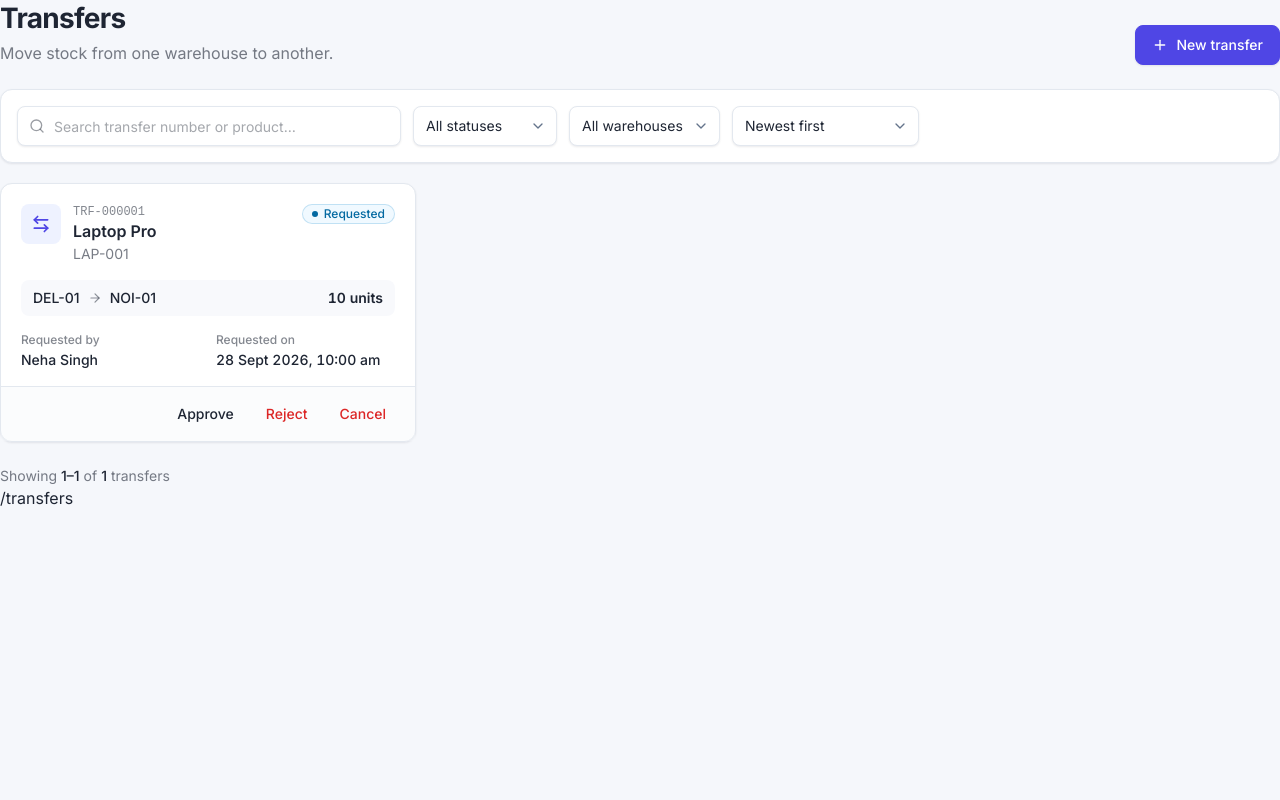
Test: TransfersPage › reject needs a reason
Click the button with aria-label "Reject TRF-000001": [287, 414] box [253,397,320,431]
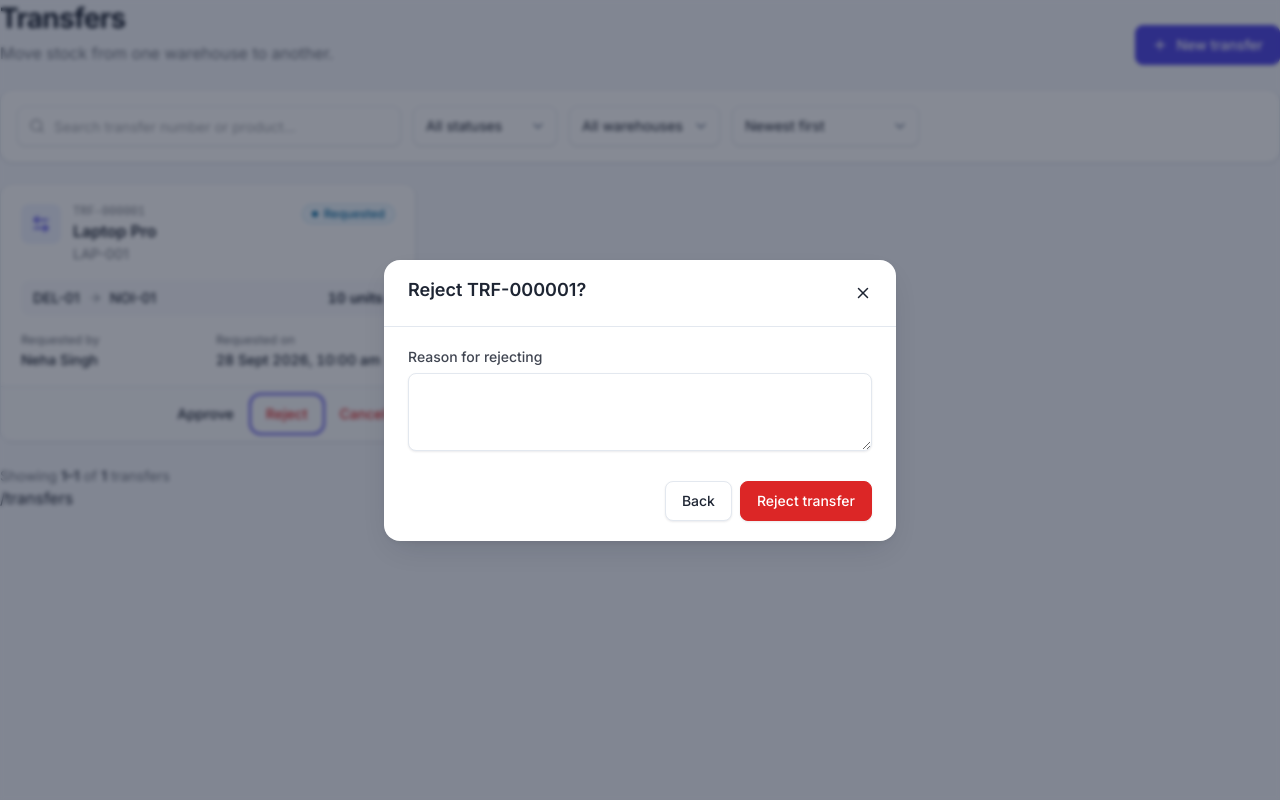
Click the button "Reject transfer": [806, 500] box [740,480,872,520]
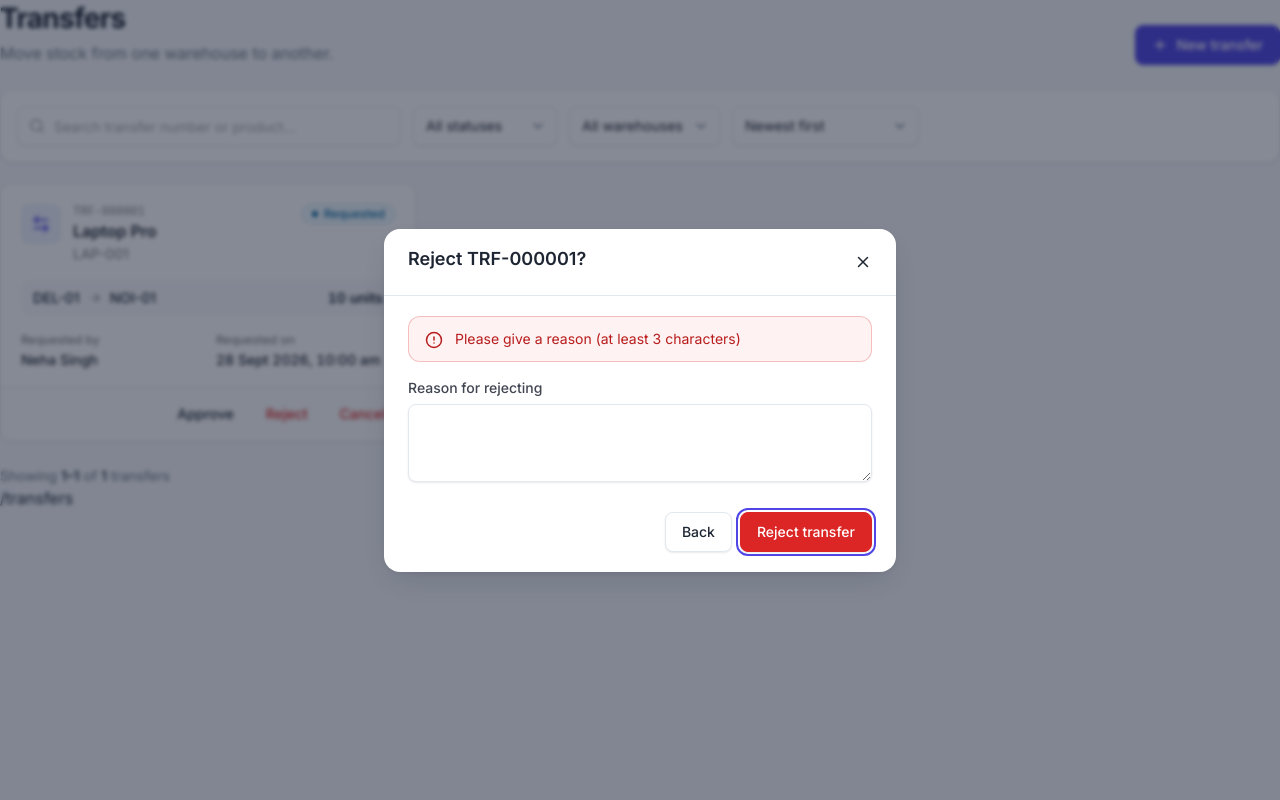
Result: the text "Please give a reason (at least 3 characters)" is shown at [455,330,741,346]
In the text box labelled "Reason for rejecting": [640, 442] box [408,404,872,482], type "Not needed"
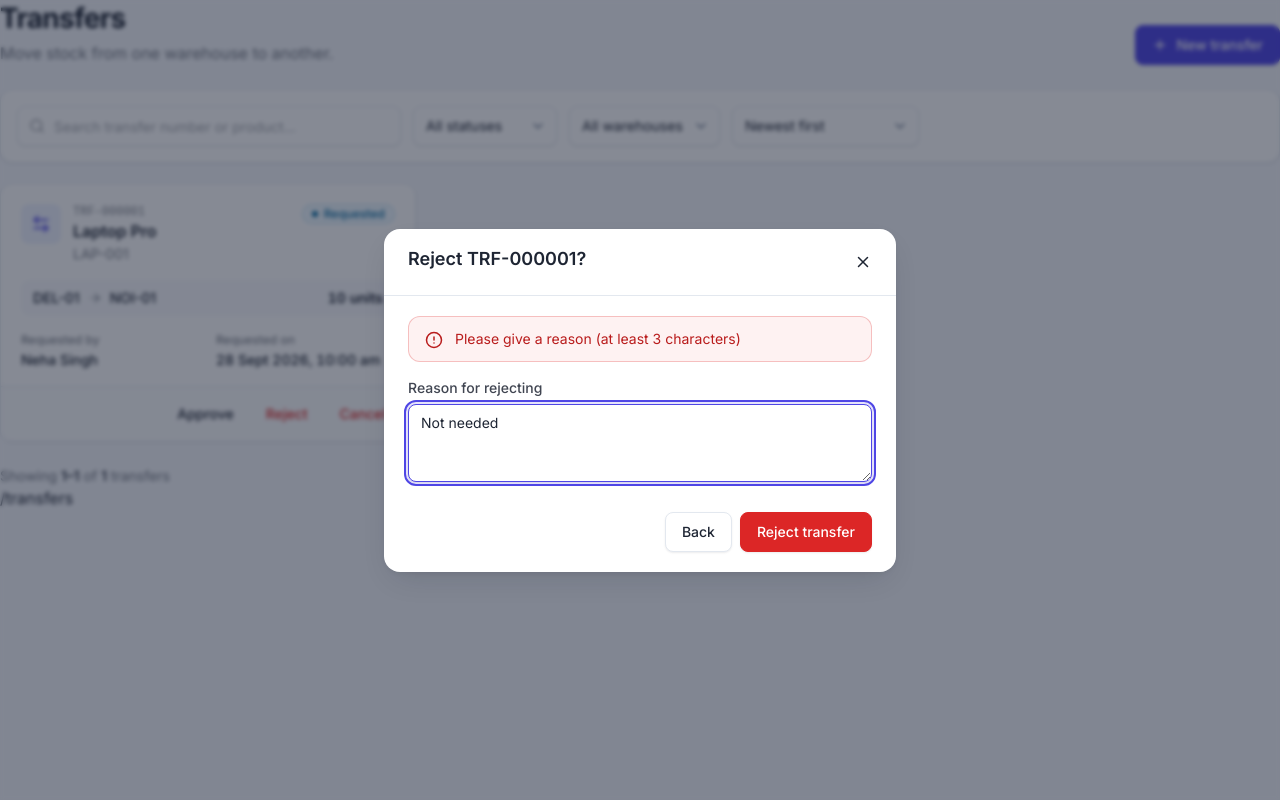
Click the button "Reject transfer": [806, 532] box [740,512,872,552]
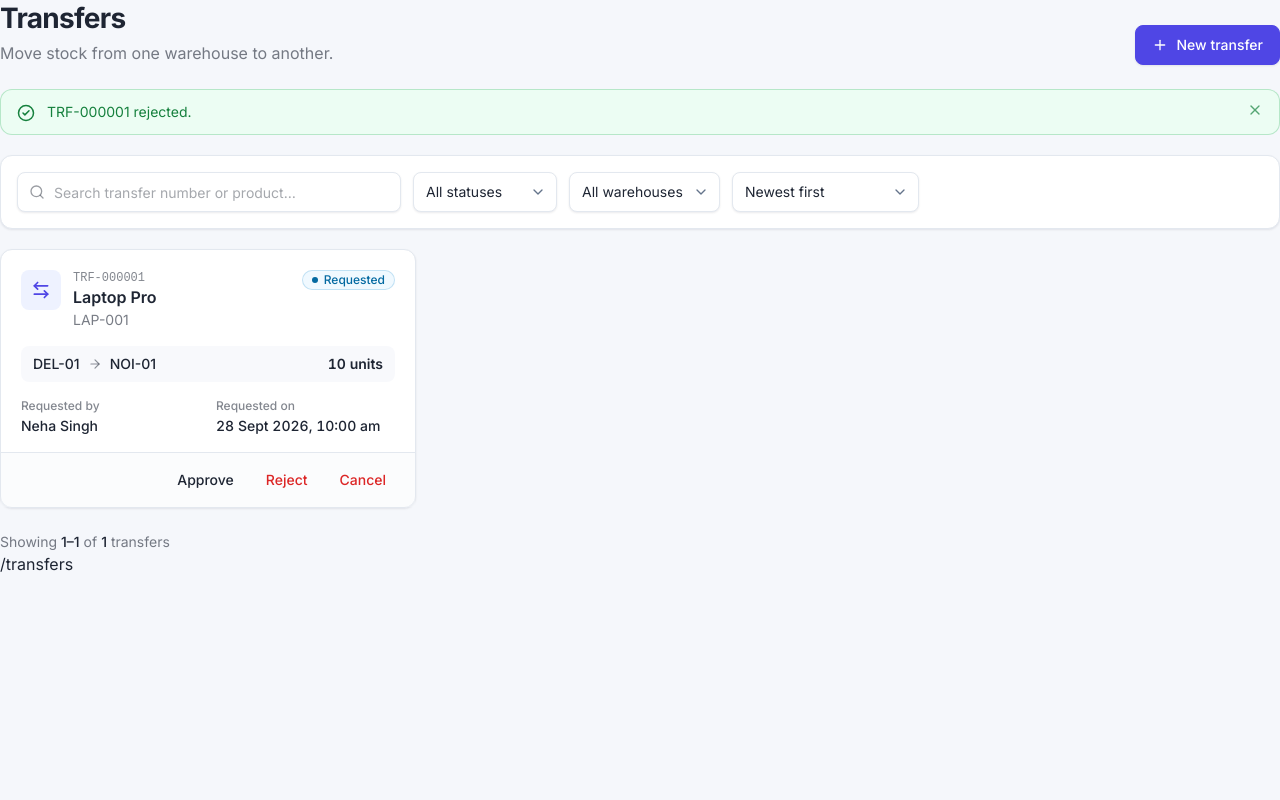
Result: the text "TRF-000001 rejected." is shown at [47,103,192,120]
